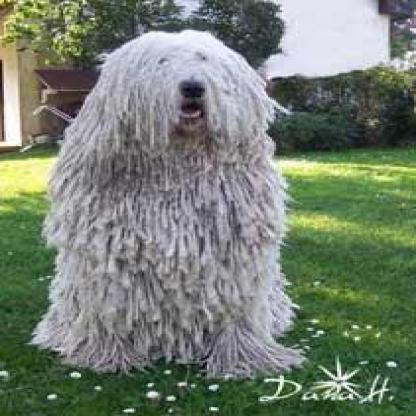komondor: (32, 30, 329, 376)
